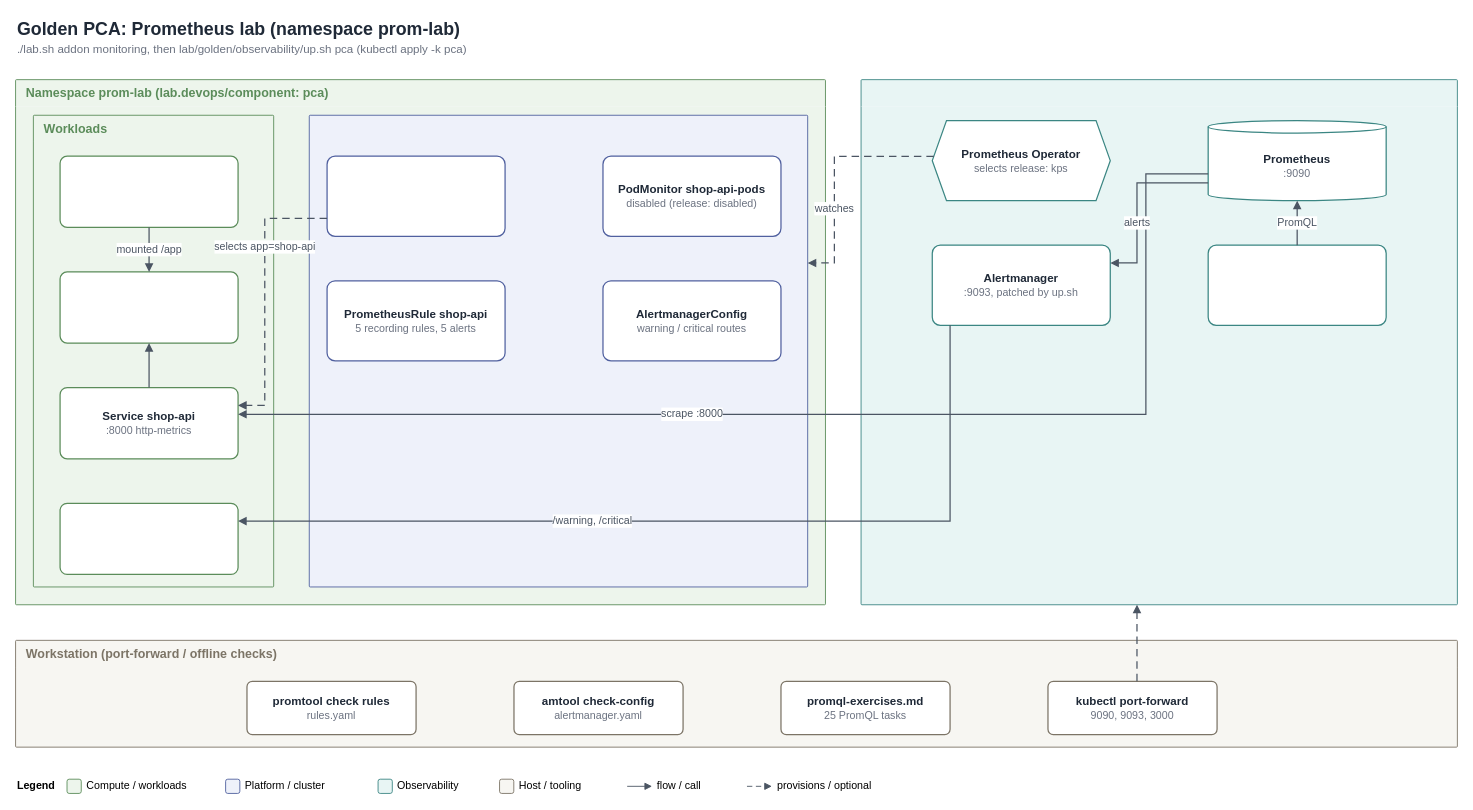
This 1473x810 diagram has some shape labels left out. The shapes that lost their labels are listed below. From the top down, each one's box as (x1, y1, x2, y2) in pixels, then its label:
(59, 155, 238, 228): ConfigMap shop-api-code app.py, hash suffix
(326, 155, 505, 236): ServiceMonitor shop-api /metrics every 15s
(1207, 244, 1386, 325): Grafana :3000 (svc :80)
(59, 271, 238, 343): shop-api 2 replicas, python:3.12, self-traffic
(308, 114, 808, 587): Operator CRs (label release: kps)
(860, 79, 1457, 605): Namespace monitoring: kube-prometheus-stack (release kps)
(59, 502, 238, 575): alert-sink webhook echo :8080
